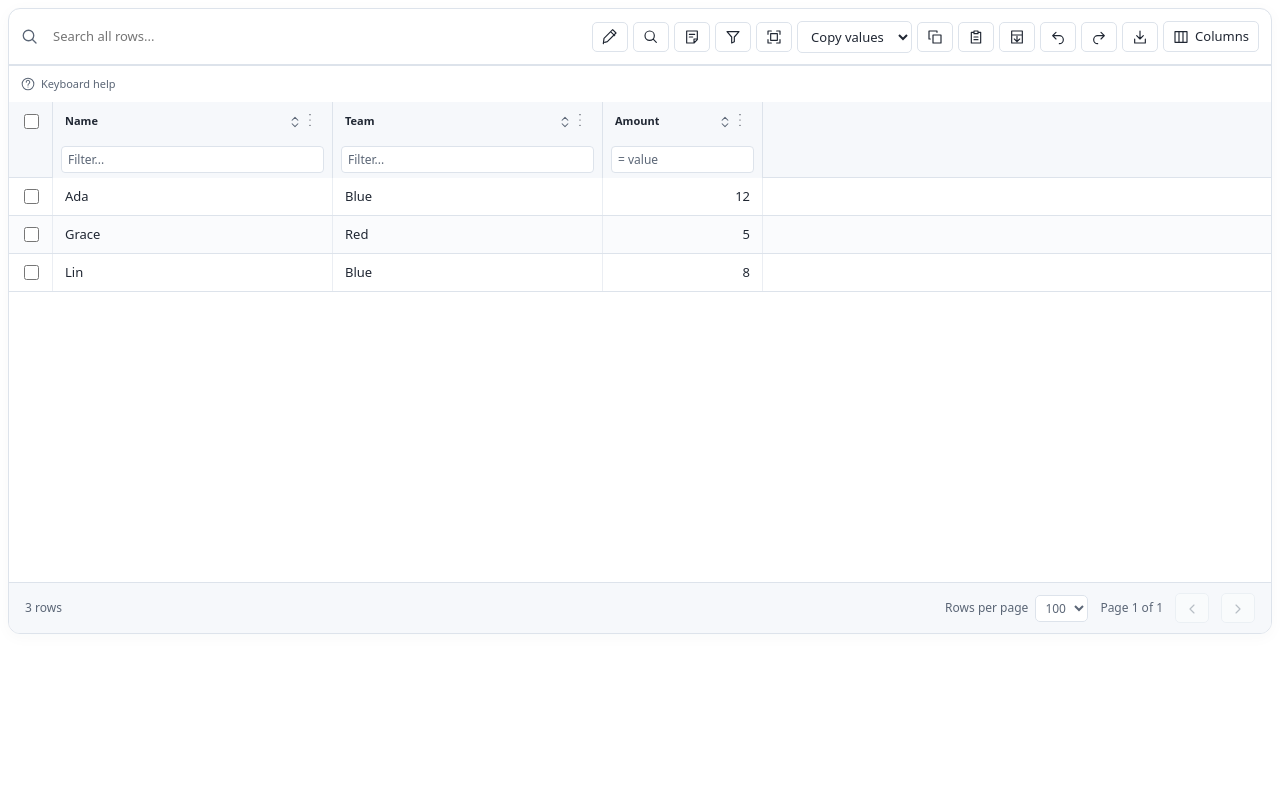
Test case: DataGrid column commands › resets only the selected manual width and leaves other layout state intact
The image size is (1280, 800).
Click the button named "Column menu for Name" at (310, 120), box x1=298 y1=108 x2=322 y2=132
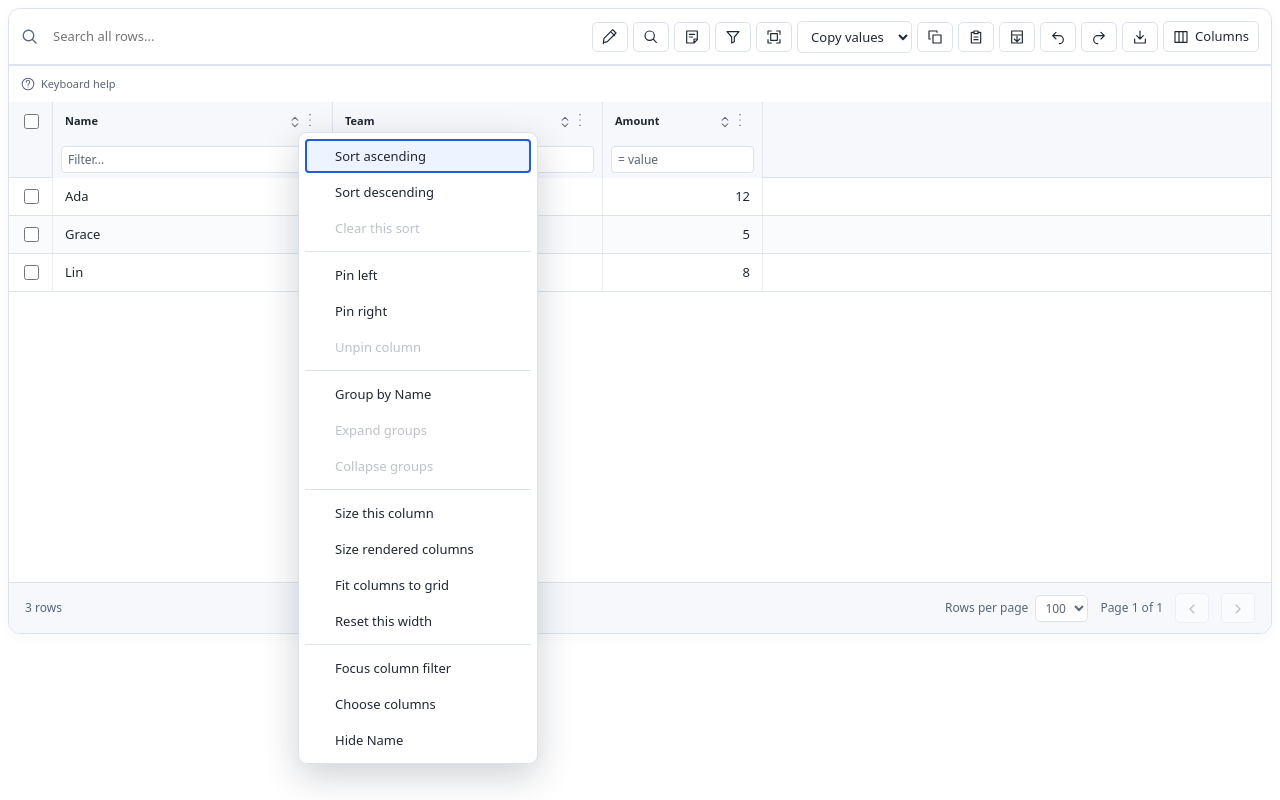
Click the menu item "Reset this width" at (418, 621), box x1=305 y1=604 x2=531 y2=638
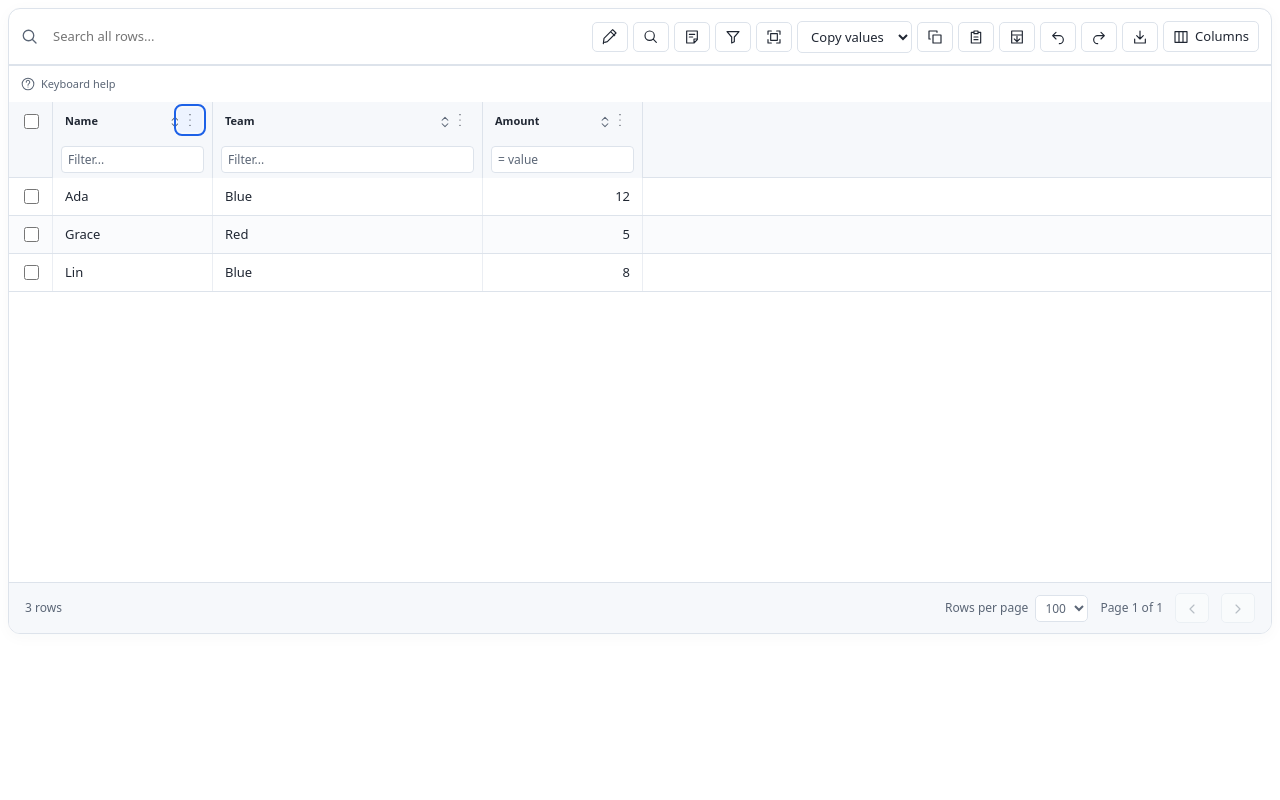
Click the button named "Column menu for Name" at (190, 120), box x1=178 y1=108 x2=202 y2=132
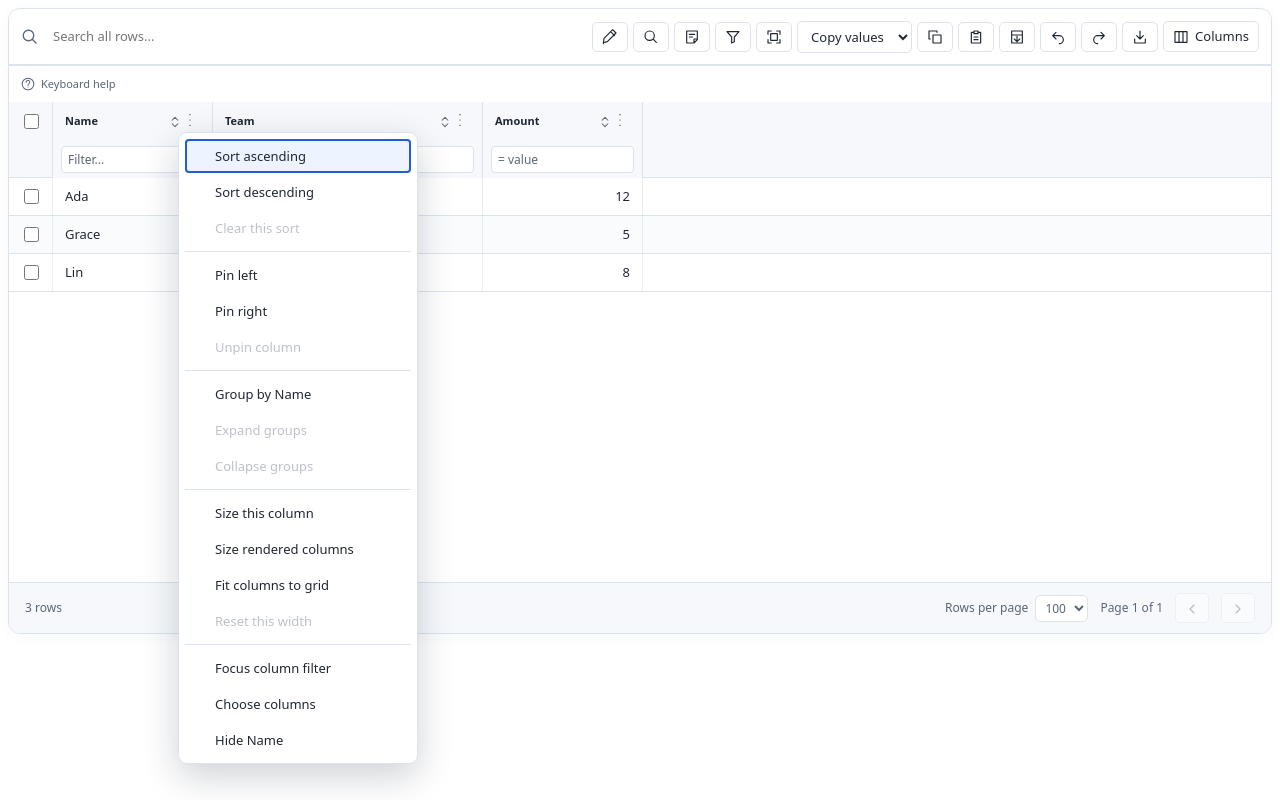
Check: the menu item "Reset this width" is disabled, box x1=185 y1=604 x2=411 y2=638
